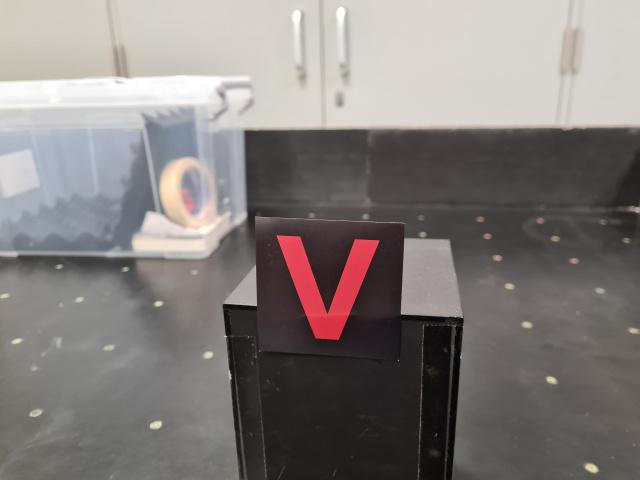v: (253, 215, 405, 363)
